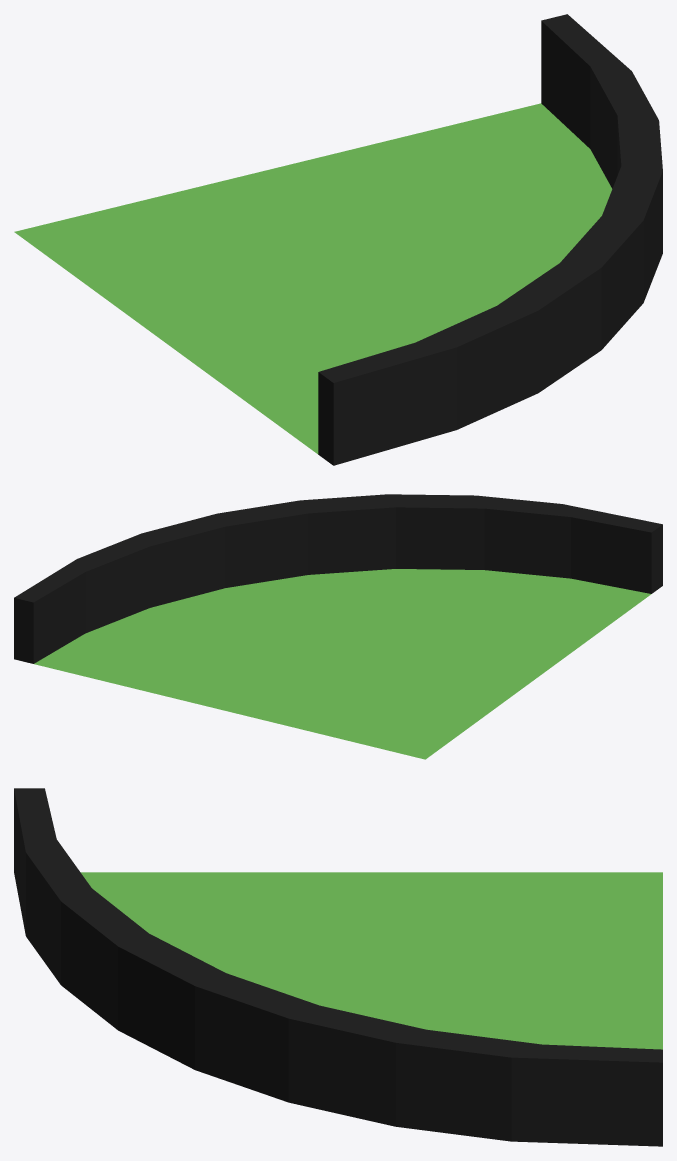
The model's file is tile2_curve.fbx.
3 renders of one model, top to bottom at view 1: azimuth 30°, elevation 25°; view 2: azimuth 150°, elevation 25°; view 3: azimuth 270°, elevation 25°, orthographic. The views are drawn at different scales.
Visible parts, largest first — view 1: T1_Curve; view 2: T1_Curve; view 3: T1_Curve.
Boxes of the visible parts, x1,y1,x2,y2 form: T1_Curve: [14, 14, 662, 465]; T1_Curve: [14, 494, 662, 759]; T1_Curve: [14, 788, 662, 1146].
Size of the model in its own units: 210 by 30 by 210.
